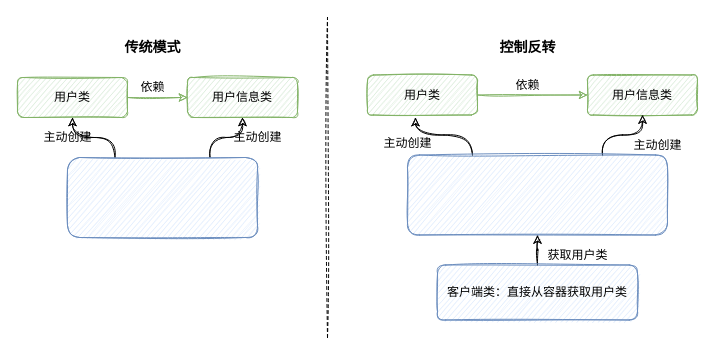
The diagram is 715 pixels wide and 356 high, and some of its shapes have lost their labels. Here are the shapes that lost their labels. From the top down, the centre of each, then its label:
pixel 162 197: 客户端类： 1.创建用户类 2.创建用户信息类 3.将用户信息类主动注入到用户类
pixel 537 194: IOC容器 1.创建用户类 2.判断用户类是否有依赖对象需要注入 3.发现用户信息类需要注入，创建并将其注入 4.由容器管理这些对象的生命周期
